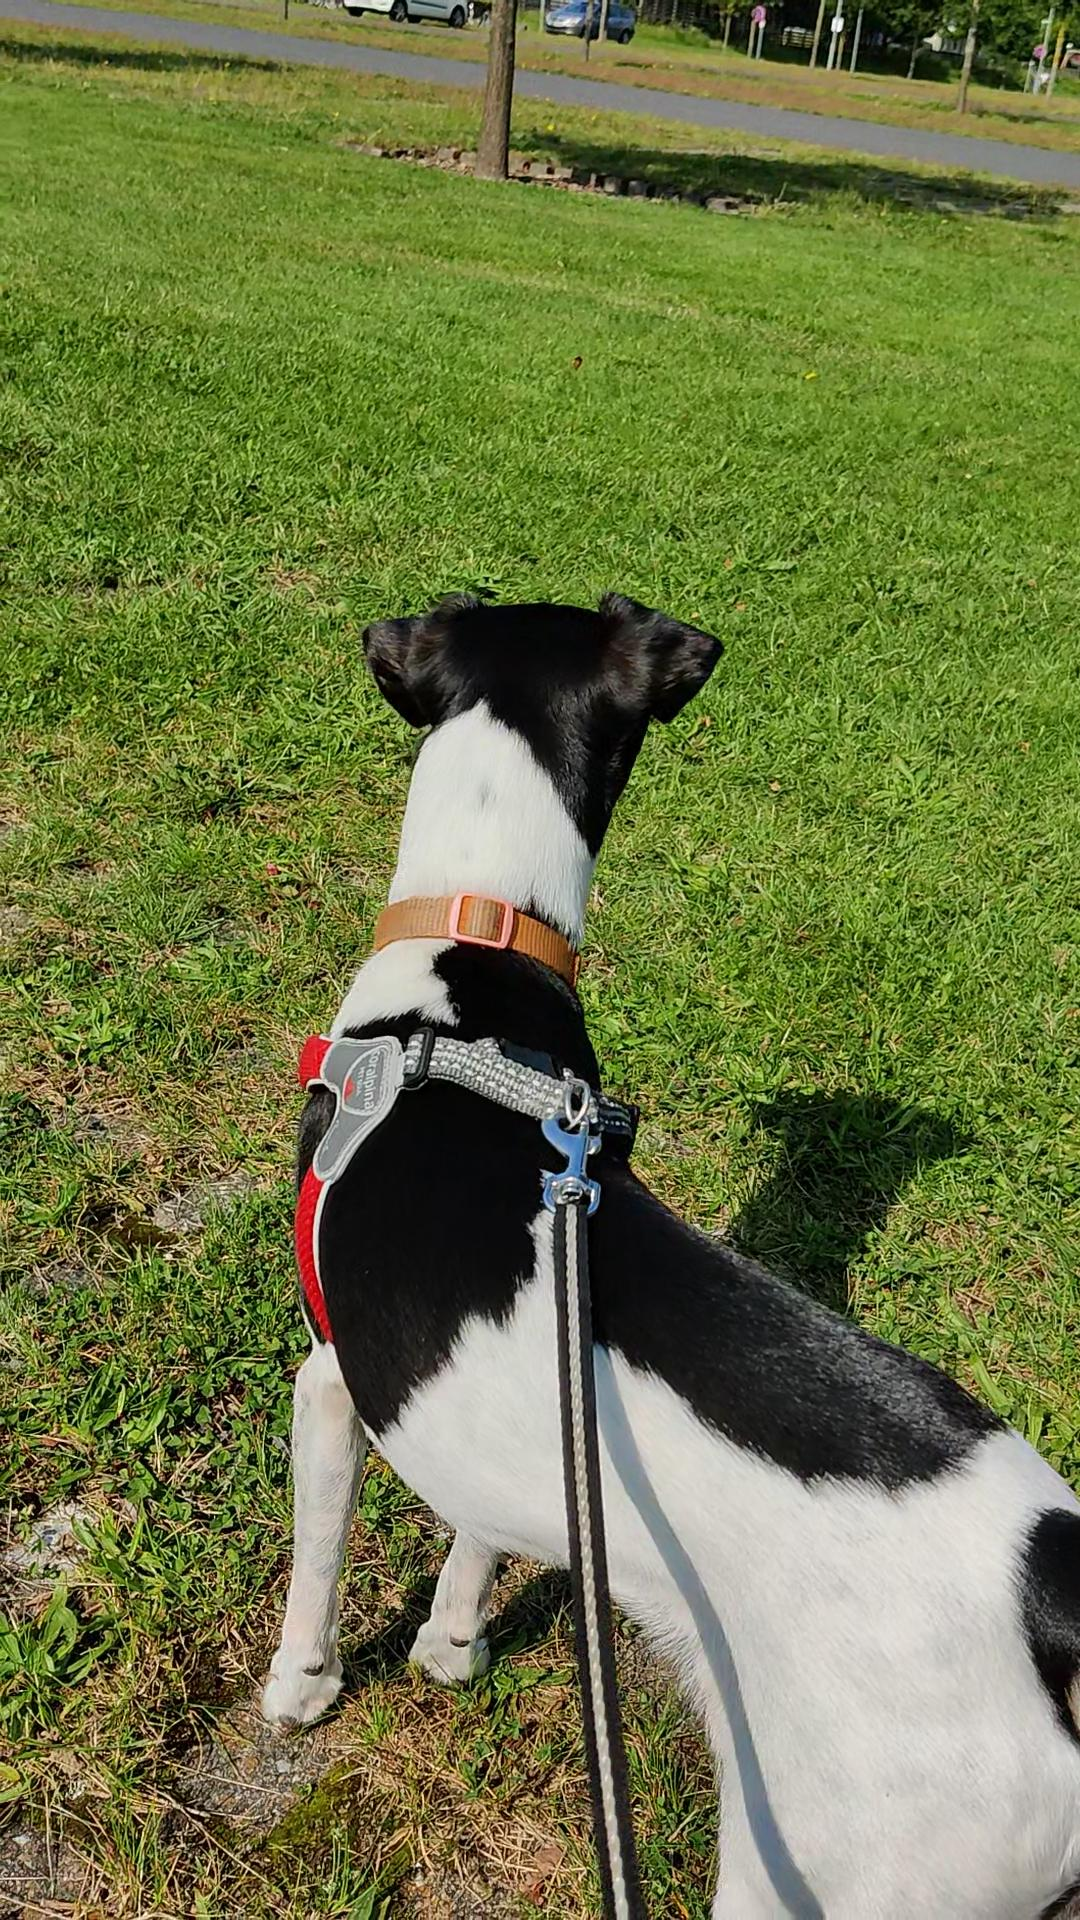Dog: (248, 582, 1079, 1919)
